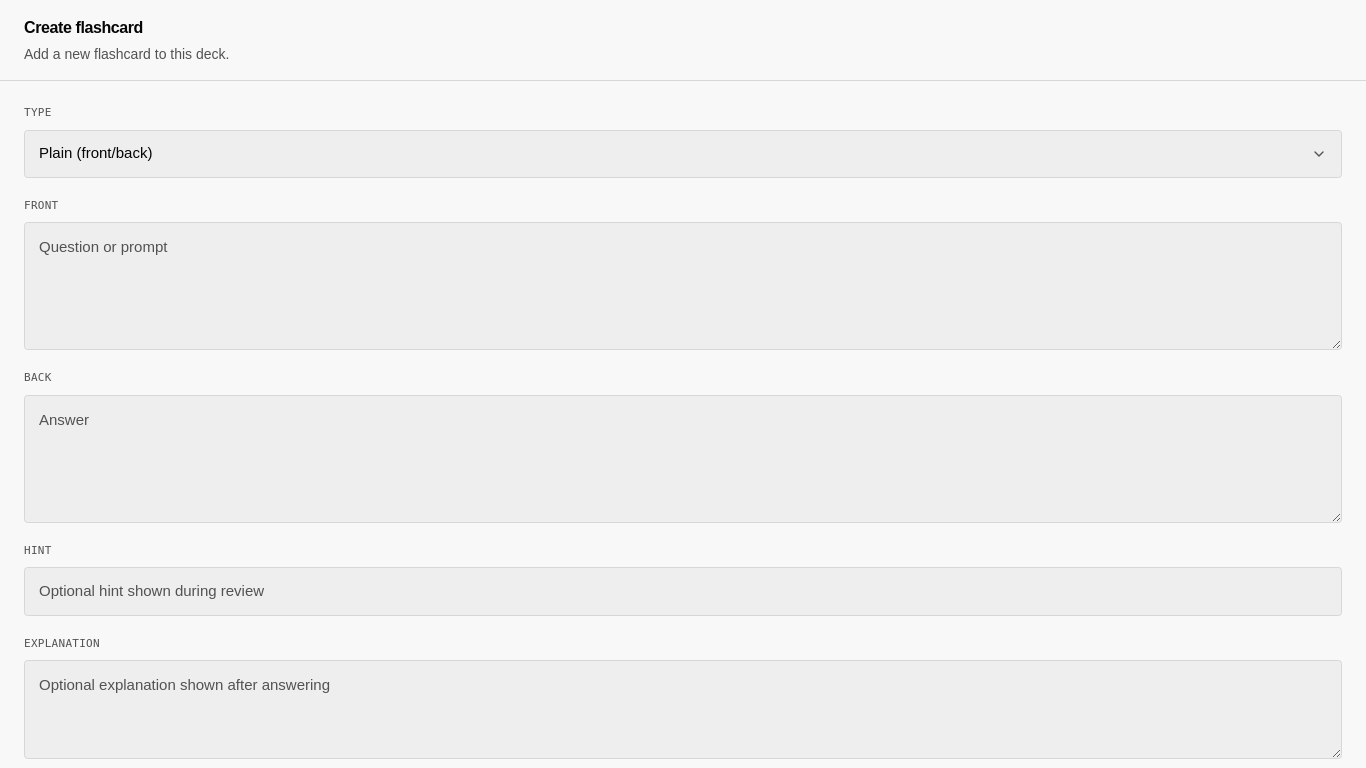
CardForm › field visibility by card type › hides the Back field when type is switched to multiple_choice
Step 1. Click the dropdown named "type" → (96, 153), box [24,130,1342,178]
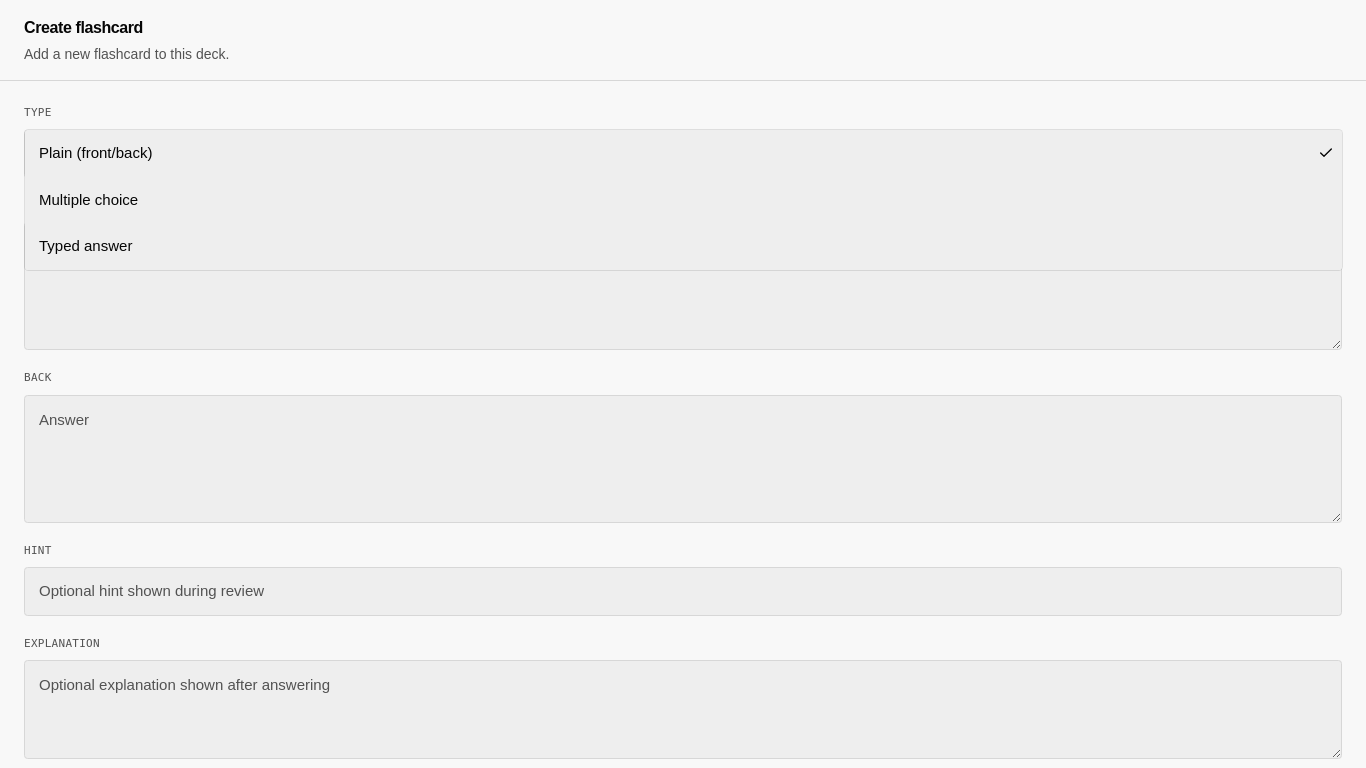
Step 2. Click the option "Multiple choice" → (89, 199), box [25,176,1342,223]
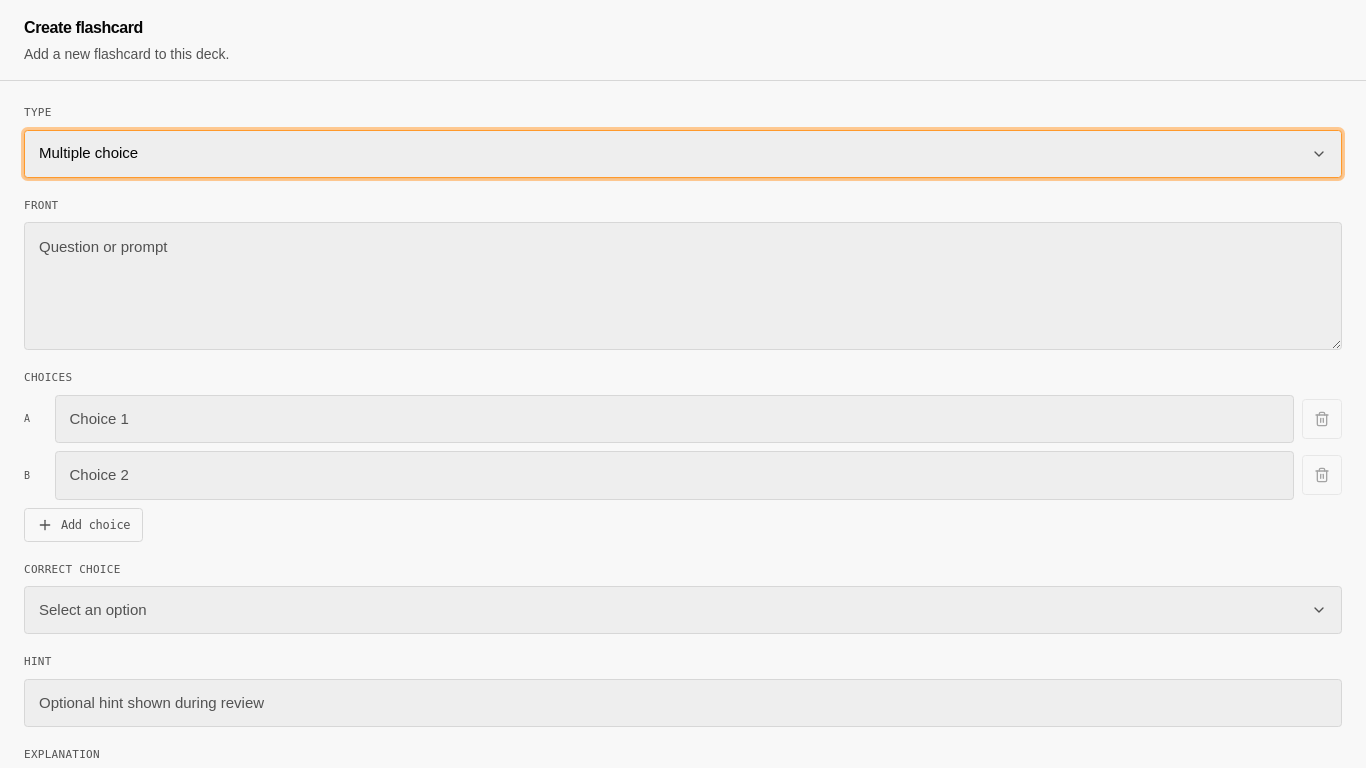
Result: the list is gone
Result: the dropdown labelled "back" is gone
